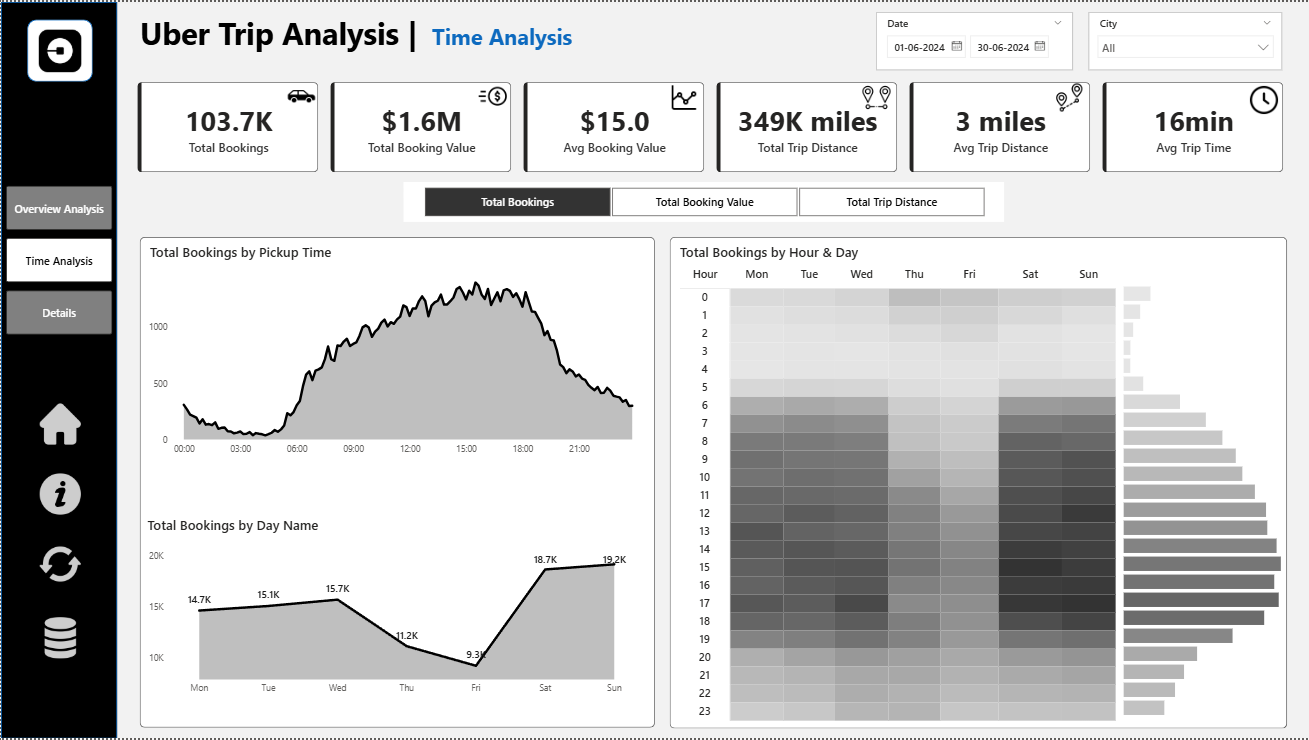

Layout of this report page (visuals, bound fields, positions):
{"tool":"powerbi","page":{"name":"Time Analysis","canvas":[1600,900],"ordinal":1},"visuals":[{"type":"shape","box":[0,0,142,900.7],"z":0},{"type":"textbox","box":[165,7,943.2,68.8],"z":1000},{"type":"cardVisual","fields":{"Data":["Trip Details.Total Bookings","Trip Details.Total Booking Amount","Trip Details.Avg Booking Amount","Trip Details.Total Trip Distance","Trip Details.Avg Trip Distance","Trip Details.Avg Trip Time"]},"box":[162,93,1415,120],"z":2000},{"type":"image","box":[578.9,93.1,44.5,44.5],"z":3000},{"type":"image","box":[1285.3,95.1,44.5,44.5],"z":4000},{"type":"image","box":[1048.5,95.1,44.5,44.5],"z":5000},{"type":"image","box":[1522.1,97.2,44.5,44.5],"z":6000},{"type":"image","box":[813.7,95.1,44.5,44.5],"z":7000},{"type":"shape","box":[169.4,287.8,630,600],"z":8000},{"type":"image","box":[346.1,93.1,44.5,44.5],"z":9000},{"type":"slicer","fields":{"Values":["Dynamic Measure.Dynamic Measure"]},"box":[491.8,220.4,734.7,49],"z":10000},{"type":"slicer","fields":{"Values":["Calendar Table.Date"]},"box":[1070.7,12.1,240.9,70.8],"z":11000},{"type":"slicer","fields":{"Values":["Location Table.City"]},"box":[1329.8,12.1,236.8,70.8],"z":12000},{"type":"areaChart","fields":{"Y":["Trip Details.Total Bookings"],"Category":["Trip Details.Pickup Hour (HH MM SS) (bins)"]},"box":[175.5,328.6,614.3,234.7],"z":13000},{"type":"cardVisual","fields":{"Data":["Trip Details.Title for by Pickup Time"]},"box":[165.3,269.4,369.4,61.2],"z":14000},{"type":"areaChart","fields":{"Y":["Trip Details.Total Bookings"],"Category":["Calendar Table.Day Name"]},"box":[176.1,663.9,613.3,192.3],"z":15000},{"type":"cardVisual","fields":{"Data":["Trip Details.Title for by Day Name"]},"box":[161.9,603.2,368.4,60.7],"z":16000},{"type":"shape","box":[817.7,287.4,755,601.1],"z":17000},{"type":"pivotTable","fields":{"Values":["Trip Details.Total Bookings"],"Rows":["Trip Details.Pickup Hour"],"Columns":["Calendar Table.Day Name"]},"box":[825.8,315.7,544.5,568.8],"z":18000},{"type":"barChart","fields":{"Y":["Trip Details.Total Bookings"],"Category":["Trip Details.Pickup Hour"]},"box":[1368.2,335.3,204.4,564.7],"z":19000},{"type":"cardVisual","fields":{"Data":["Trip Details.Title for by Hour & Day"]},"box":[813.7,269.2,368.4,60.7],"z":20000},{"type":"pageNavigator","box":[6,224,130,184],"z":21000},{"type":"group","id":"g1","title":"Group 1","box":[32,22,80,76],"z":22000},{"type":"image","box":[32,486,80,60],"z":23000},{"type":"image","box":[32,572,80,60],"z":24000},{"type":"image","box":[32,658,80,60],"z":25000},{"type":"image","box":[32,748,80,60],"z":26000},{"type":"shape","box":[32,22,80,76],"z":33000,"group":"g1"},{"type":"image","box":[38,30,68,62],"z":34000,"group":"g1"}]}

Visuals, with their boxes on the page's 1600x900 design canvas (x1, y1, x2, y2). These are canvas units, not pixel positions in the 1309x740 screenshot, which may show the page scaled, cropped or inside an application window:
shape: {"left": 0, "top": 0, "right": 142, "bottom": 901}
textbox: {"left": 165, "top": 7, "right": 1108, "bottom": 76}
cardVisual - Trip Details.Total Bookings x Trip Details.Total Booking Amount: {"left": 162, "top": 93, "right": 1577, "bottom": 213}
image: {"left": 579, "top": 93, "right": 623, "bottom": 138}
image: {"left": 1285, "top": 95, "right": 1330, "bottom": 140}
image: {"left": 1048, "top": 95, "right": 1093, "bottom": 140}
image: {"left": 1522, "top": 97, "right": 1567, "bottom": 142}
image: {"left": 814, "top": 95, "right": 858, "bottom": 140}
shape: {"left": 169, "top": 288, "right": 799, "bottom": 888}
image: {"left": 346, "top": 93, "right": 391, "bottom": 138}
slicer - Dynamic Measure.Dynamic Measure: {"left": 492, "top": 220, "right": 1226, "bottom": 269}
slicer - Calendar Table.Date: {"left": 1071, "top": 12, "right": 1312, "bottom": 83}
slicer - Location Table.City: {"left": 1330, "top": 12, "right": 1567, "bottom": 83}
areaChart - Trip Details.Total Bookings x Trip Details.Pickup Hour (HH MM SS) (bins): {"left": 176, "top": 329, "right": 790, "bottom": 563}
cardVisual - Trip Details.Title for by Pickup Time: {"left": 165, "top": 269, "right": 535, "bottom": 331}
areaChart - Trip Details.Total Bookings x Calendar Table.Day Name: {"left": 176, "top": 664, "right": 789, "bottom": 856}
cardVisual - Trip Details.Title for by Day Name: {"left": 162, "top": 603, "right": 530, "bottom": 664}
shape: {"left": 818, "top": 287, "right": 1573, "bottom": 888}
pivotTable - Trip Details.Total Bookings x Trip Details.Pickup Hour: {"left": 826, "top": 316, "right": 1370, "bottom": 884}
barChart - Trip Details.Total Bookings x Trip Details.Pickup Hour: {"left": 1368, "top": 335, "right": 1573, "bottom": 900}
cardVisual - Trip Details.Title for by Hour & Day: {"left": 814, "top": 269, "right": 1182, "bottom": 330}
pageNavigator: {"left": 6, "top": 224, "right": 136, "bottom": 408}
"Group 1" group: {"left": 32, "top": 22, "right": 112, "bottom": 98}
image: {"left": 32, "top": 486, "right": 112, "bottom": 546}
image: {"left": 32, "top": 572, "right": 112, "bottom": 632}
image: {"left": 32, "top": 658, "right": 112, "bottom": 718}
image: {"left": 32, "top": 748, "right": 112, "bottom": 808}
shape: {"left": 32, "top": 22, "right": 112, "bottom": 98}
image: {"left": 38, "top": 30, "right": 106, "bottom": 92}
